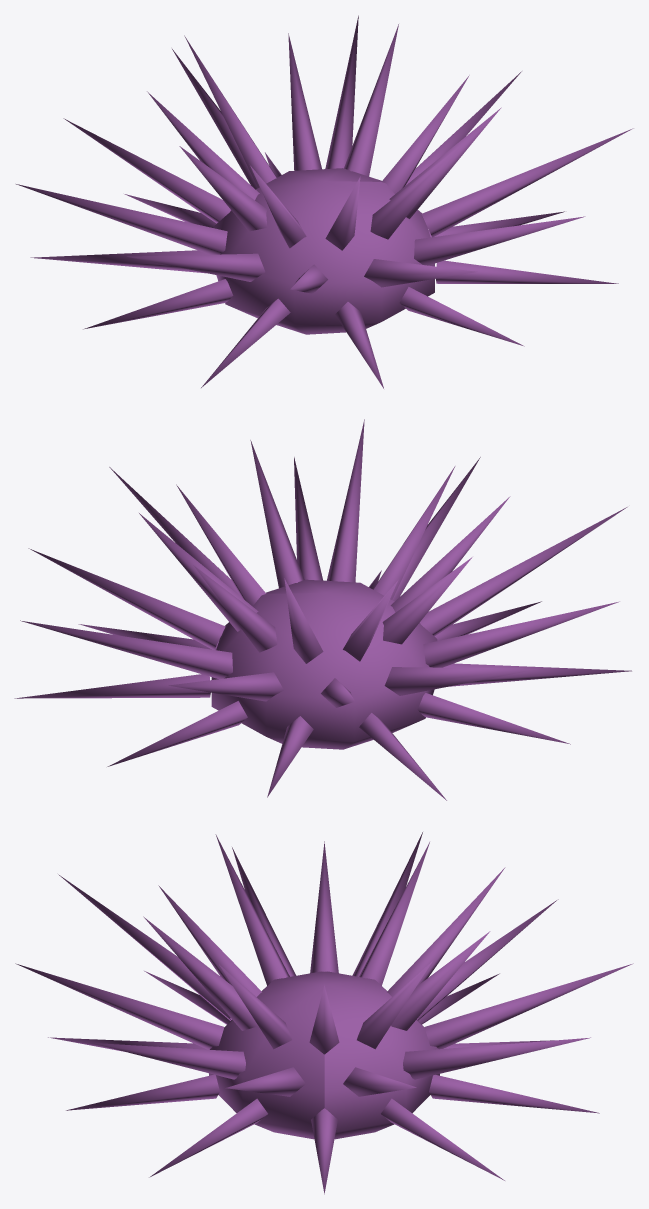
The model's file is sea_urchin_slate_pencil_lo.glb.
The picture shows the model from 3 angles, top to bottom: view 1: azimuth 30°, elevation 25°; view 2: azimuth 150°, elevation 25°; view 3: azimuth 270°, elevation 25°; orthographic projection. The views are drawn at different scales.
Parts seen in each view (by area): view 1: sea_urchin_slate_pencil_lo; view 2: sea_urchin_slate_pencil_lo; view 3: sea_urchin_slate_pencil_lo.
Part boxes in pixels (x1,y1,x2,y2): sea_urchin_slate_pencil_lo: (16, 15, 633, 388); sea_urchin_slate_pencil_lo: (14, 419, 631, 800); sea_urchin_slate_pencil_lo: (15, 832, 633, 1194).
Size of the model in its own units: 0.1708 by 0.071 by 0.1738.
